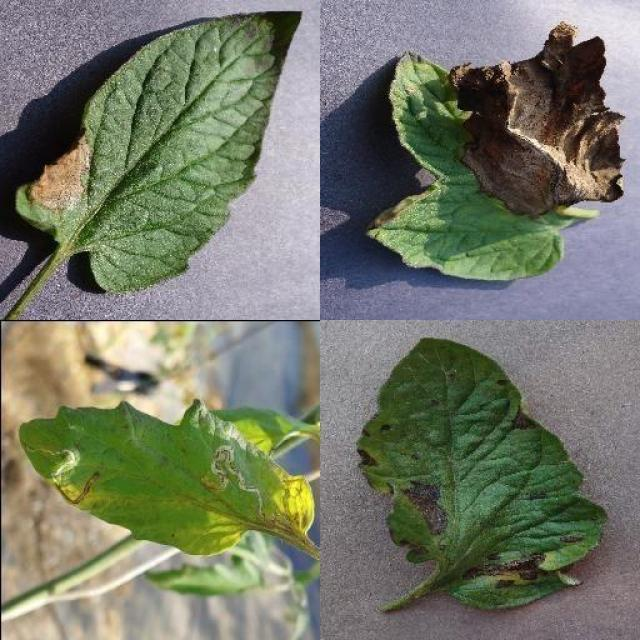Early Blight: (359, 336, 609, 614)
Late Blight: (16, 10, 306, 295), (358, 20, 628, 284)
